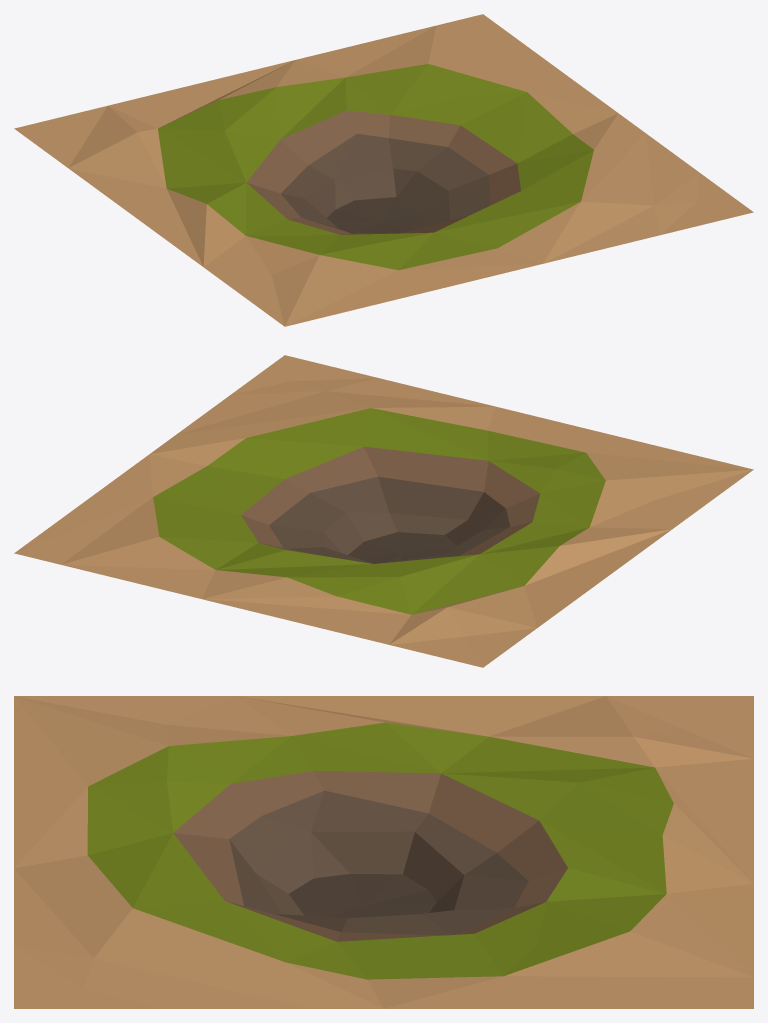
Rendered from TB_D_Env_Tile_Oasis_A.FBX.
3 renders of one model, top to bottom at view 1: azimuth 30°, elevation 25°; view 2: azimuth 150°, elevation 25°; view 3: azimuth 270°, elevation 25°, orthographic. The views are drawn at different scales.
Parts seen in each view (by area): view 1: TB_D_Env_Tile_Oasis_A; view 2: TB_D_Env_Tile_Oasis_A; view 3: TB_D_Env_Tile_Oasis_A.
Part boxes in pixels (bbox=[...]): TB_D_Env_Tile_Oasis_A: bbox=[14, 14, 753, 326]; TB_D_Env_Tile_Oasis_A: bbox=[14, 355, 753, 667]; TB_D_Env_Tile_Oasis_A: bbox=[14, 696, 753, 1008].
Size of the model in its own units: 20 by 2.24 by 20.
